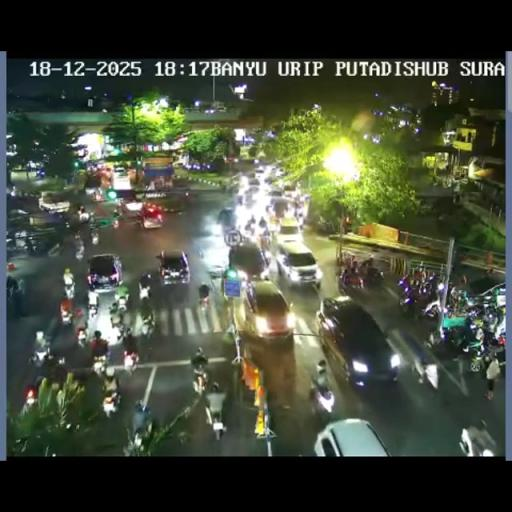Car: (314, 298, 400, 387), (233, 280, 294, 344), (312, 418, 394, 454), (272, 234, 322, 288), (228, 241, 270, 285), (86, 254, 124, 292), (157, 249, 190, 283), (277, 216, 303, 242), (268, 197, 294, 222), (139, 203, 164, 229), (38, 194, 70, 214), (123, 200, 144, 216), (242, 190, 259, 208), (282, 184, 298, 198), (266, 189, 284, 199), (254, 167, 268, 179), (247, 178, 261, 188), (114, 164, 124, 174)
Motorcycle: (54, 288, 148, 382), (12, 415, 79, 456), (392, 329, 436, 388), (398, 274, 442, 318), (430, 322, 470, 363), (125, 404, 154, 454), (458, 419, 496, 455), (202, 389, 226, 439), (30, 350, 63, 382), (309, 382, 335, 422), (238, 360, 260, 406), (478, 323, 504, 361), (22, 374, 44, 408), (102, 384, 122, 417), (191, 363, 210, 395), (449, 280, 469, 310), (68, 366, 96, 386), (340, 268, 365, 290), (361, 265, 384, 288), (462, 302, 486, 324), (122, 348, 140, 375), (110, 310, 126, 340), (91, 352, 108, 377), (86, 288, 100, 318), (138, 274, 152, 303), (316, 216, 338, 234), (140, 314, 155, 340), (60, 298, 74, 324), (221, 322, 235, 348), (115, 292, 130, 314), (46, 239, 64, 257), (198, 286, 210, 312), (6, 275, 18, 300), (24, 236, 37, 258), (73, 234, 84, 258), (63, 279, 75, 300), (75, 326, 87, 347), (75, 208, 90, 223), (244, 215, 255, 234), (226, 180, 238, 197), (131, 214, 143, 230), (16, 278, 26, 296), (294, 201, 303, 221), (260, 222, 270, 239), (90, 228, 99, 245), (114, 202, 122, 218), (94, 186, 102, 200), (484, 266, 494, 276), (236, 194, 244, 206), (112, 218, 119, 228)
